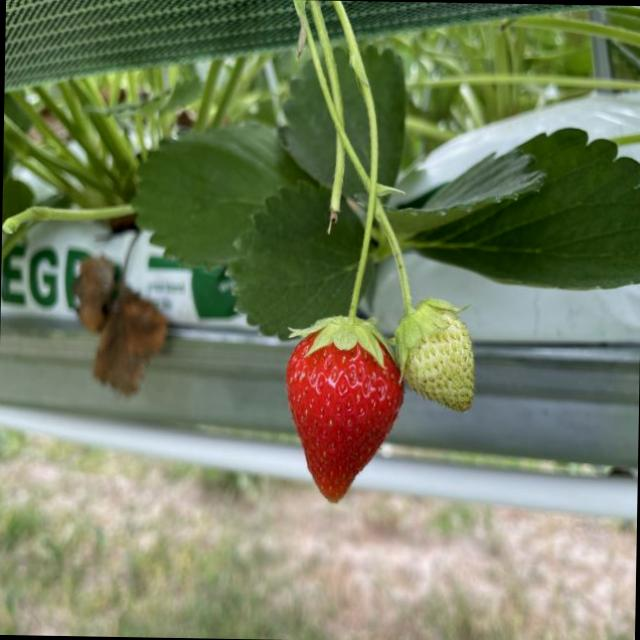stem: (374, 201, 466, 373), (292, 198, 385, 366)
strawberryNR: (404, 320, 473, 411)
strawberryR: (284, 338, 400, 498)
